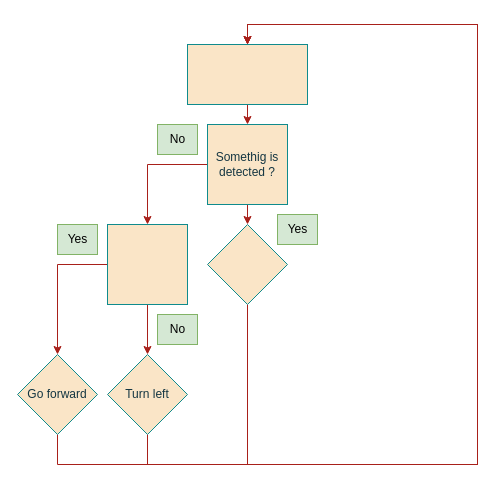
This 503x490 diagram has some shape labels left out. The box of each missing label's shape, as (x1, y1, x2, y2) in pixels:
Detection: (186, 44, 308, 104)
Is the left wall still there ?: (106, 224, 188, 304)
Turn right: (206, 224, 288, 304)
